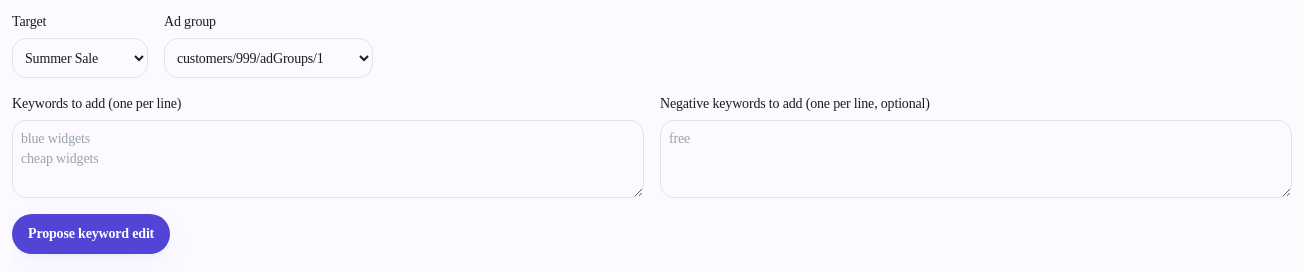
AutomationProposeKeywordEditForm › shows an inline error and does not submit when both keyword fields are empty
The width and height of the screenshot is (1304, 272).
Click the button "Propose keyword edit".
click(91, 234)  # box [12, 214, 170, 254]
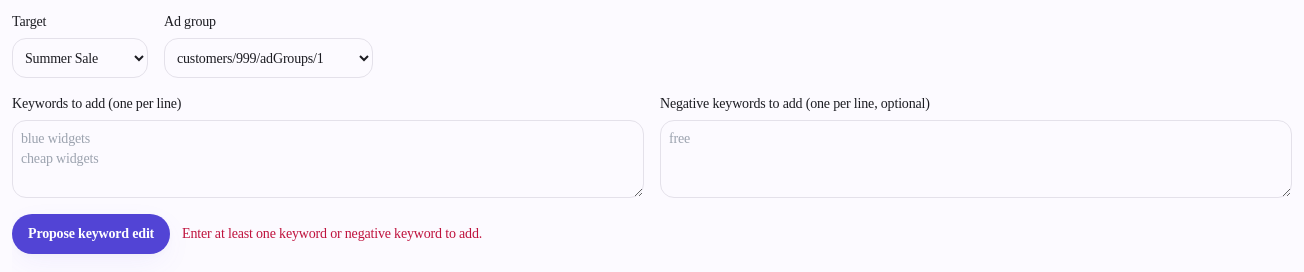
Expected: the message reads "Enter at least one keyword or negative keyword to add.", [182, 226, 482, 241]
